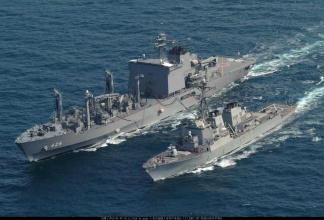warship: (10, 38, 258, 159), (140, 94, 298, 184)
